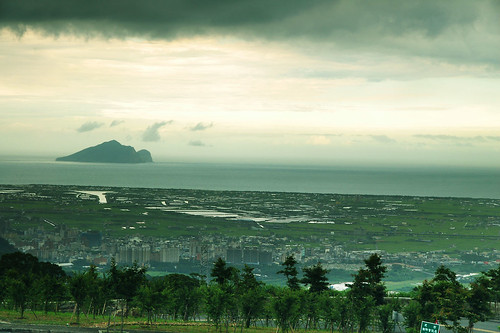turtleIsland: (56, 139, 153, 163)
